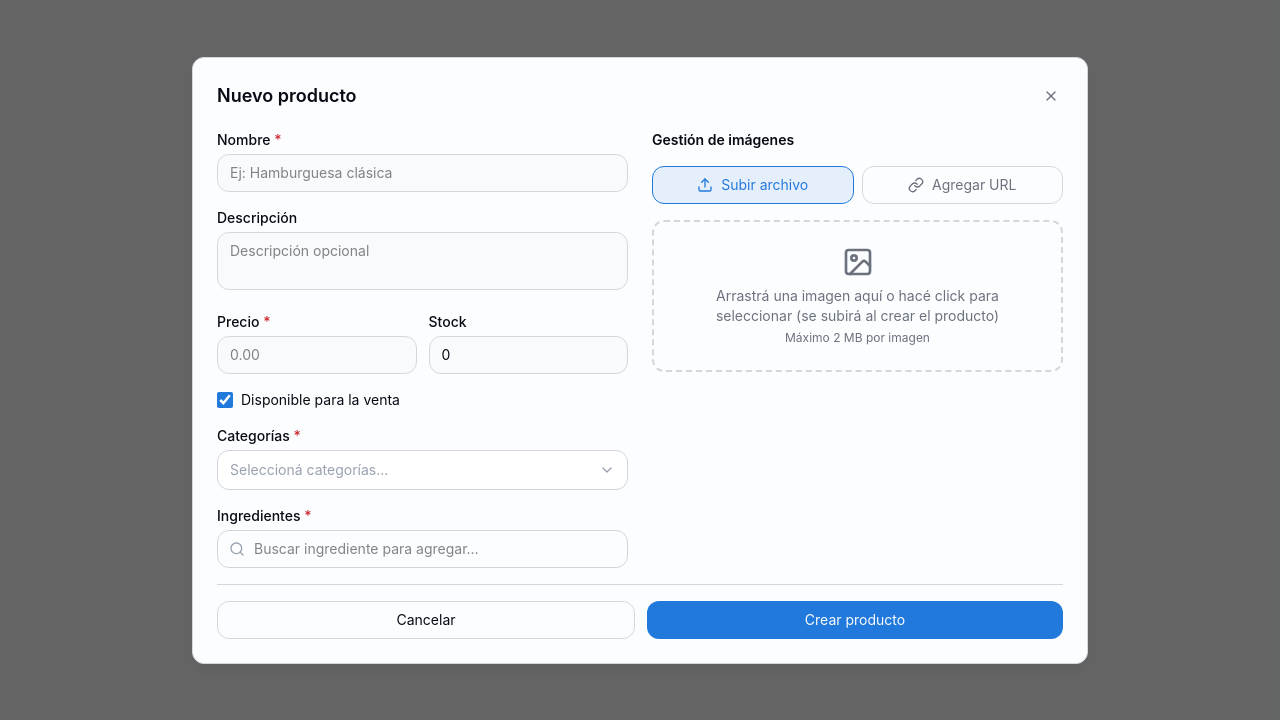
it: ProductFormModal — category validation (7.2) › shows error when submitting without categories
This screenshot has width=1280, height=720.
# Fill required fields
Type "Test Product" into the field labelled "Nombre *" at (422, 172), box 217,154 -> 628,192
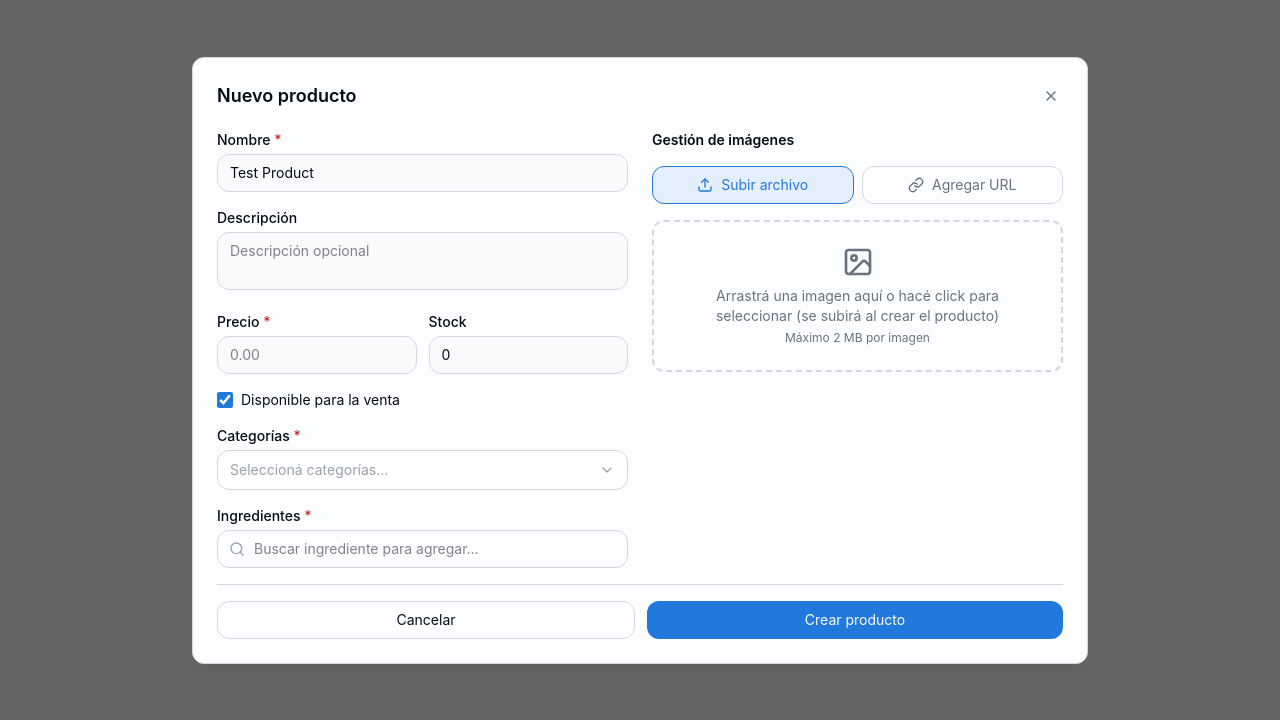
Type "10" into the number field labelled "Precio *" at (317, 354), box 217,336 -> 416,374
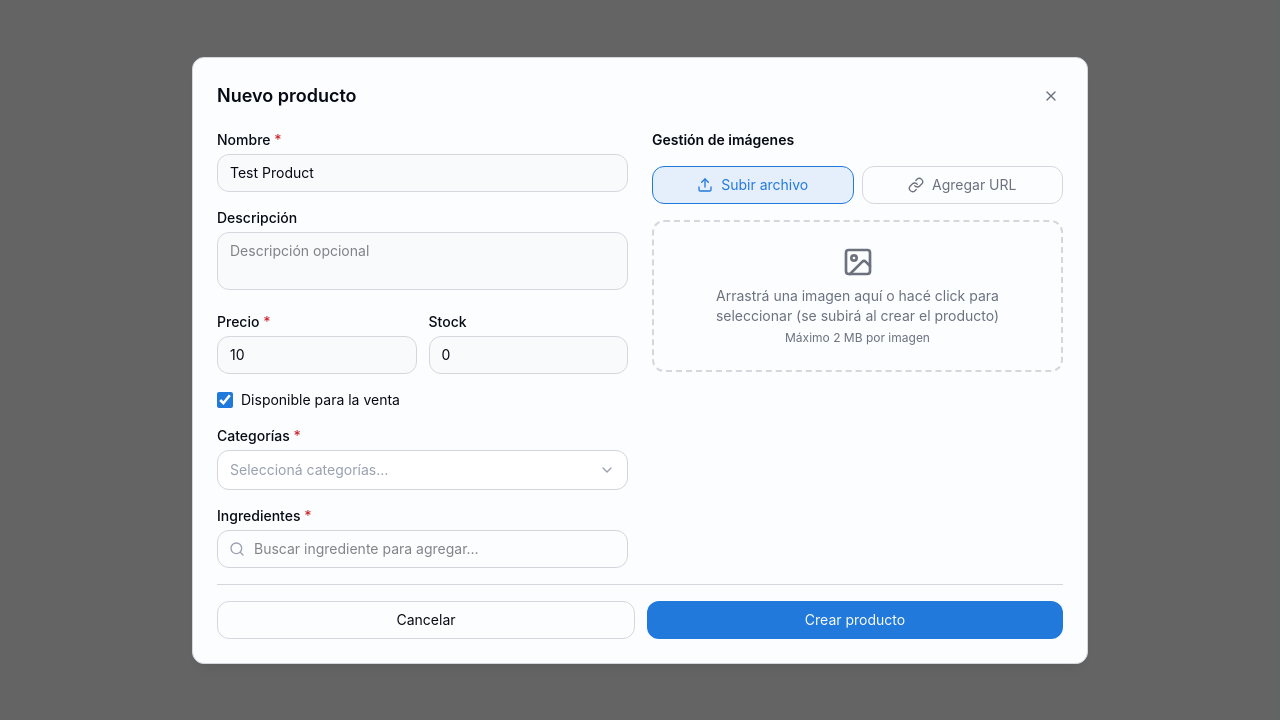
# Submit without selecting categories
Click the button "Crear producto" at (855, 620), box 647,600 -> 1063,638
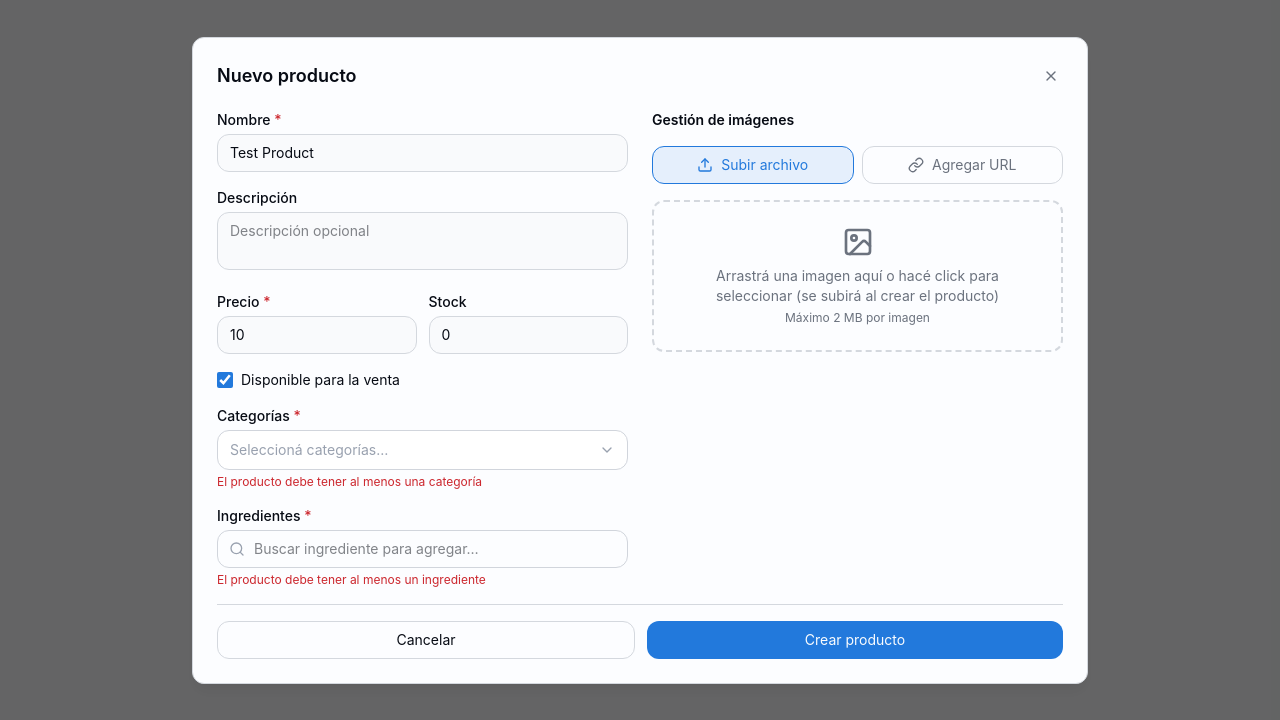
Expected: the text "El producto debe tener al menos una categoría" is shown, 217,474 -> 482,488
